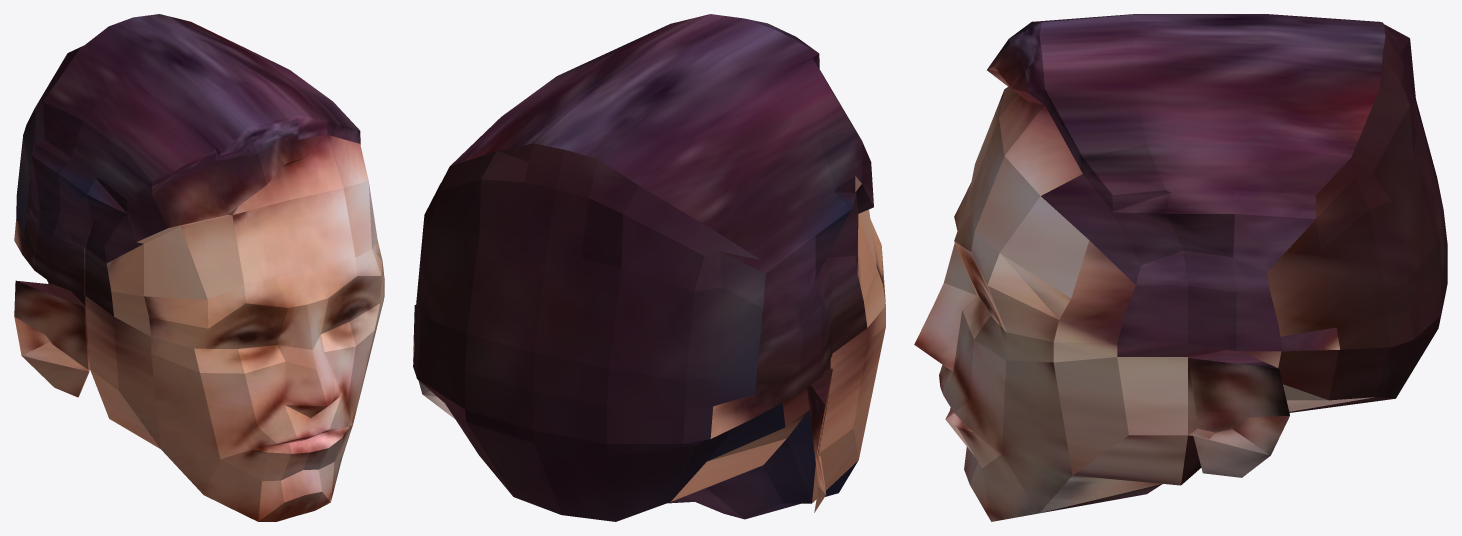
The model's file is inge.glb.
The picture shows the model from 3 angles, left to right: view 1: azimuth 30°, elevation 25°; view 2: azimuth 150°, elevation 25°; view 3: azimuth 270°, elevation 25°; orthographic projection. The views are drawn at different scales.
Parts seen in each view (by area): view 1: Inge; view 2: Inge; view 3: Inge.
Boxes of the visible parts, left/top/right/bottom form: Inge: left=14, top=14, right=384, bottom=521; Inge: left=413, top=14, right=885, bottom=521; Inge: left=914, top=14, right=1447, bottom=521.
Bounding box in the file's own units: 1.67 × 1.93 × 1.95.
Materials: 1 (1 with a texture image).
